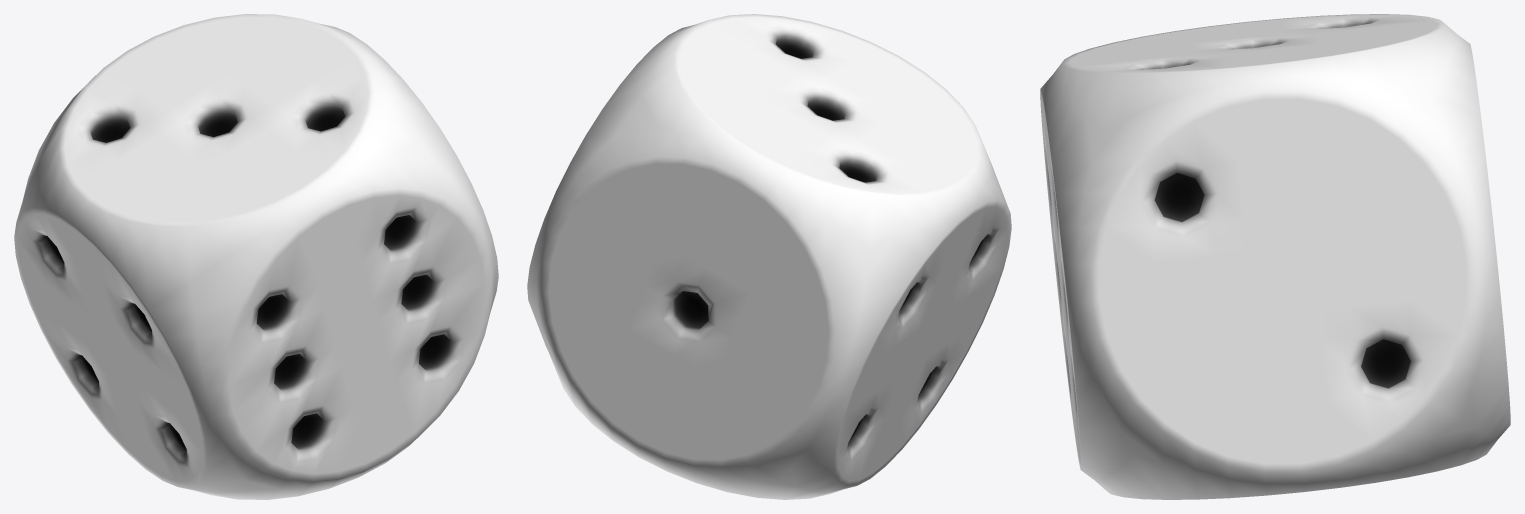
Rendered from dice.glb.
The picture shows the model from 3 angles, left to right: view 1: azimuth 30°, elevation 25°; view 2: azimuth 150°, elevation 25°; view 3: azimuth 270°, elevation 25°; orthographic projection. The views are drawn at different scales.
Visible parts, largest first — view 1: Dice_Cube.001; view 2: Dice_Cube.001; view 3: Dice_Cube.001.
Boxes of the visible parts, x1,y1,x2,y2 form: Dice_Cube.001: [14, 14, 498, 499]; Dice_Cube.001: [527, 14, 1011, 499]; Dice_Cube.001: [1040, 14, 1510, 499].
Size of the model in its own units: 0.8013 by 0.8043 by 0.7088.
1 material, 1 textured.
